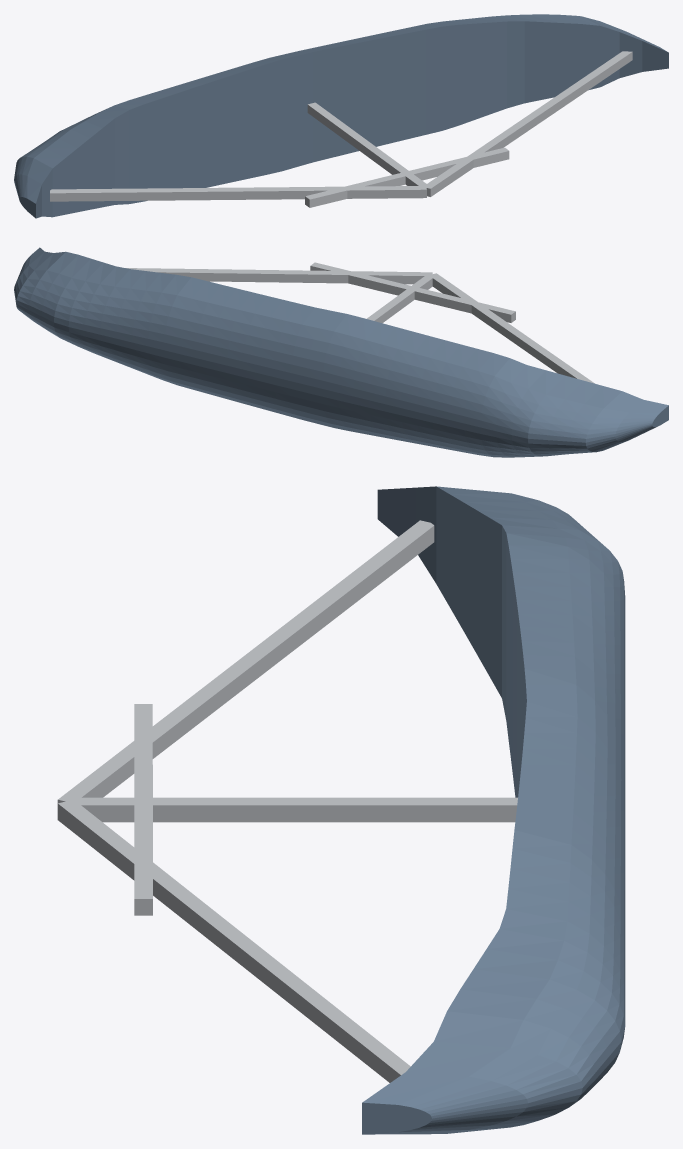
The model's file is loft-longship-highside.glb.
3 views of the same model, one above another, from view 1: azimuth 30°, elevation 25°; view 2: azimuth 150°, elevation 25°; view 3: azimuth 270°, elevation 25° (orthographic). The views are drawn at different scales.
Visible parts, largest first — view 1: loft-longship-highside; view 2: loft-longship-highside; view 3: loft-longship-highside.
Boxes of the visible parts, bbox=[...] form: loft-longship-highside: bbox=[14, 14, 668, 218]; loft-longship-highside: bbox=[14, 247, 668, 457]; loft-longship-highside: bbox=[57, 486, 625, 1134].
Size of the model in its own units: 1.89 by 0.3215 by 0.7383.
